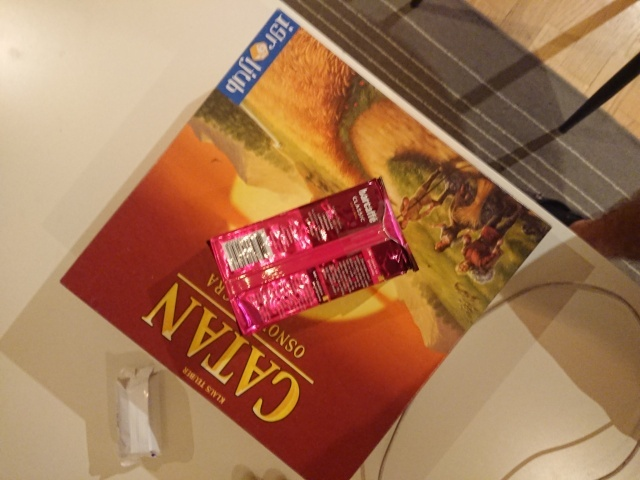Barcaffe Classic Original 225g: (202, 172, 423, 340)
